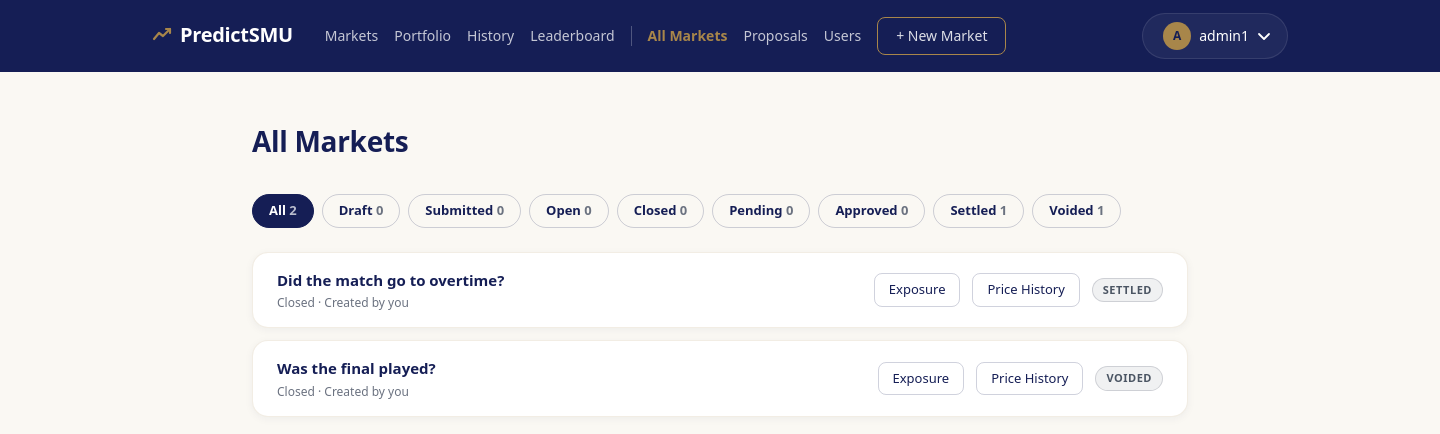
Scenario: AdminMarketsPage › offers a Voided filter tab with its own count, and asks the server for voided markets
Expected: the text "Was the final played?" is shown, [277, 357, 436, 380]
Expected: the tab "Settled 1" is shown, [933, 194, 1024, 228]
Click the tab "Voided 1" at (1077,211), box [1032, 194, 1121, 228]
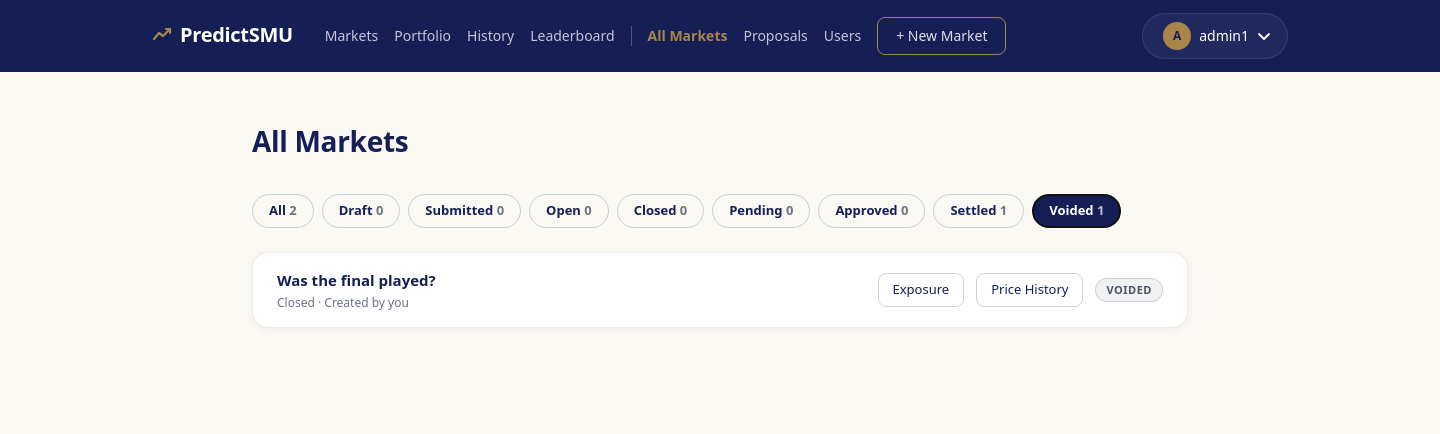
Expected: the text "Was the final played?" is shown, [277, 268, 436, 291]
Now the text "Did the match go to overtime?" is gone
